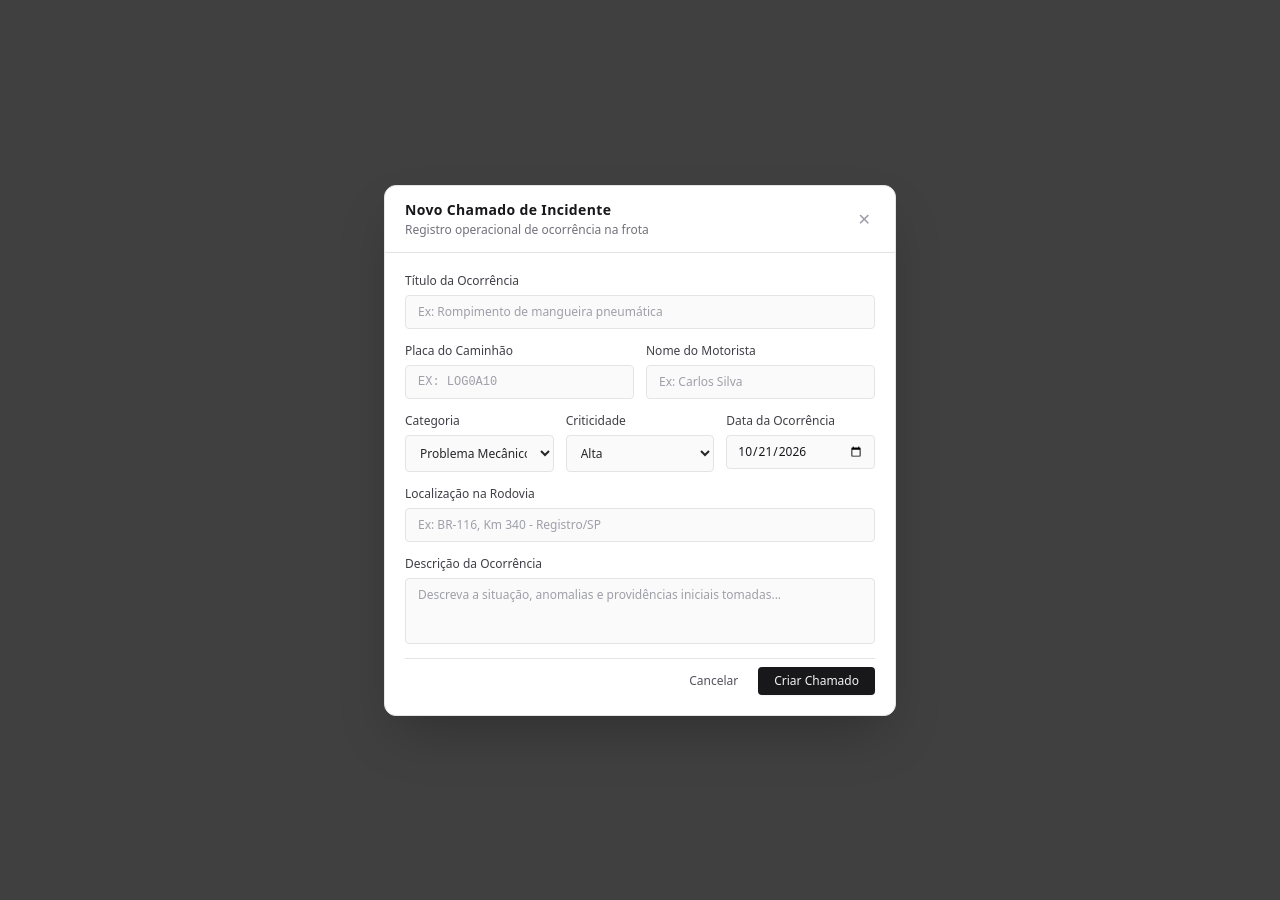
Scenario: CreateIncidentModal › renders structured error alert when submission fails
The image size is (1280, 900).
Type "Pane de arrefecimento" into the field labelled "Título da Ocorrência" at coordinates (640, 312), box [405,294,875,328]
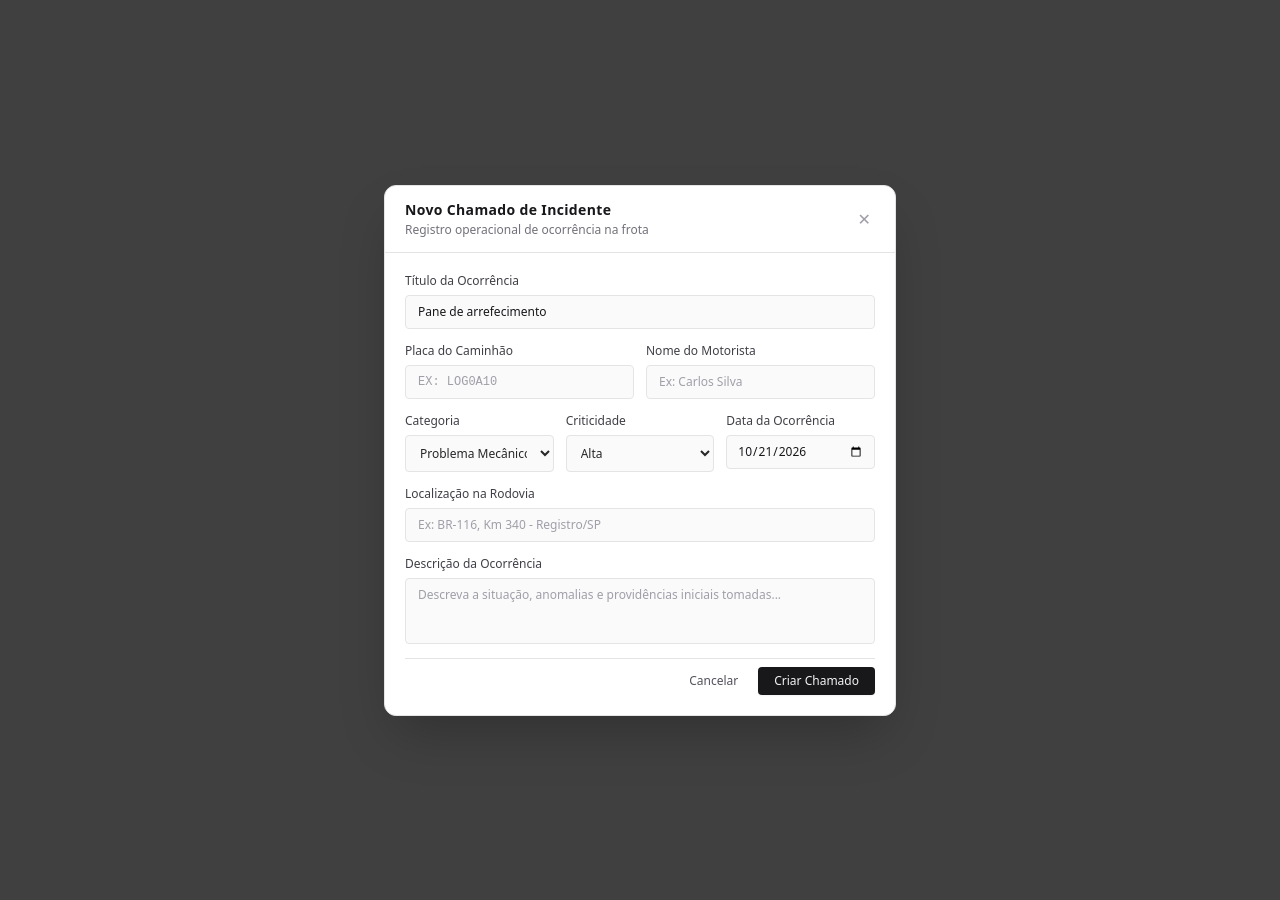
Type "LOG1A23" into the field labelled "Placa do Caminhão" at coordinates (520, 382), box [405,364,634,398]
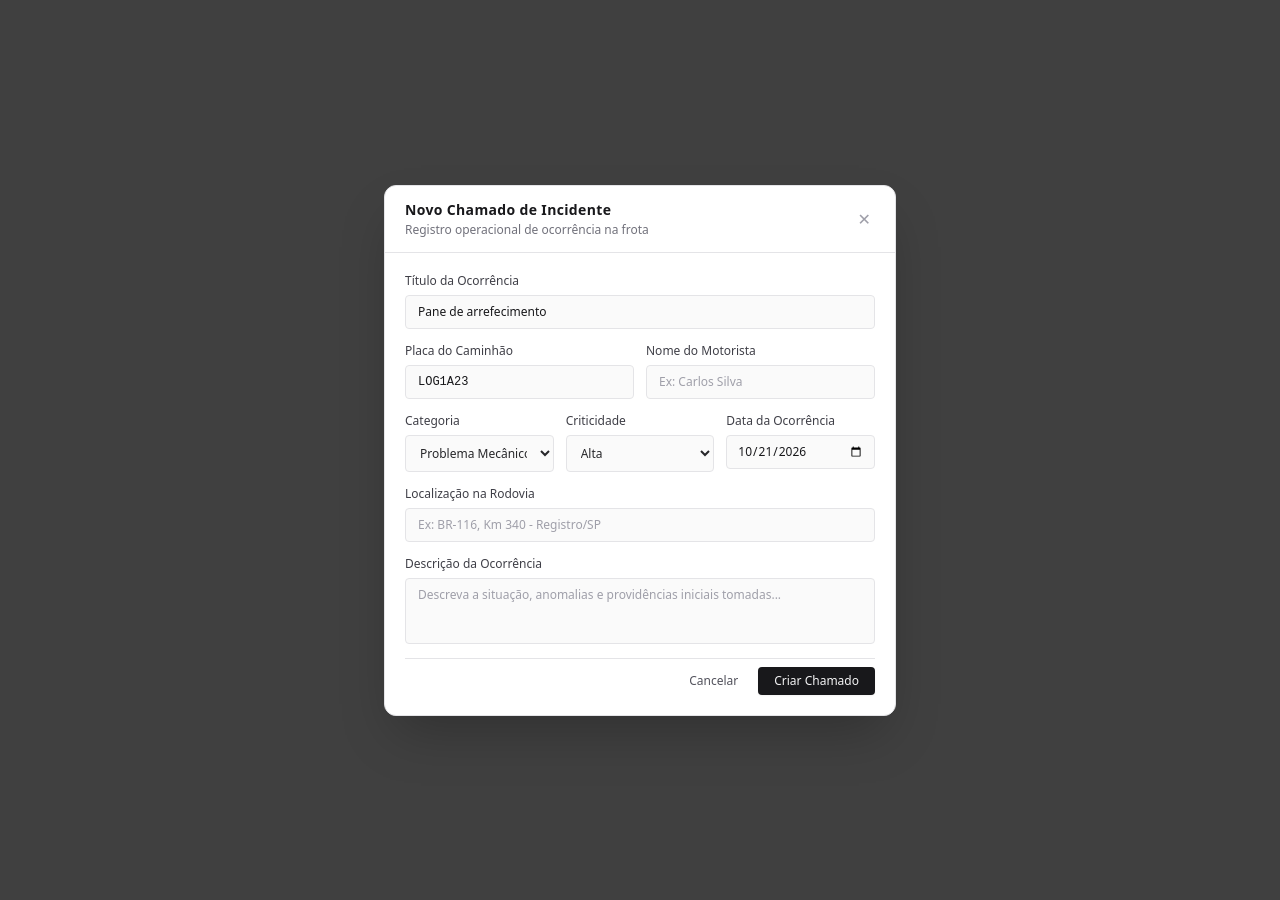
Type "BR-101, Km 50" into the field labelled "Localização na Rodovia" at coordinates (640, 524), box [405,508,875,542]
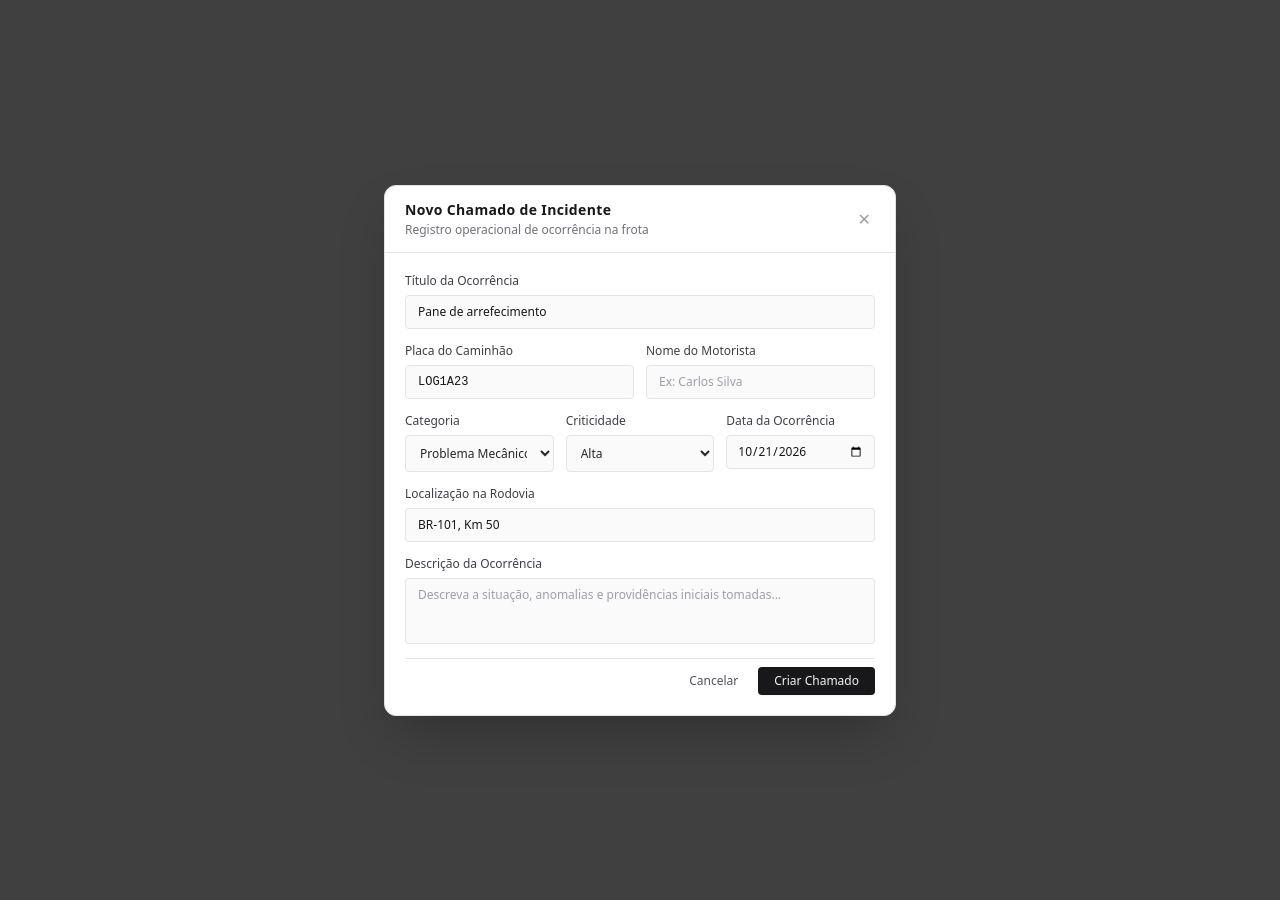
Replace the text in the text box labelled "Descrição da Ocorrência" with "Superaquecimento na subida da serra" at coordinates (640, 610), box [405,578,875,644]
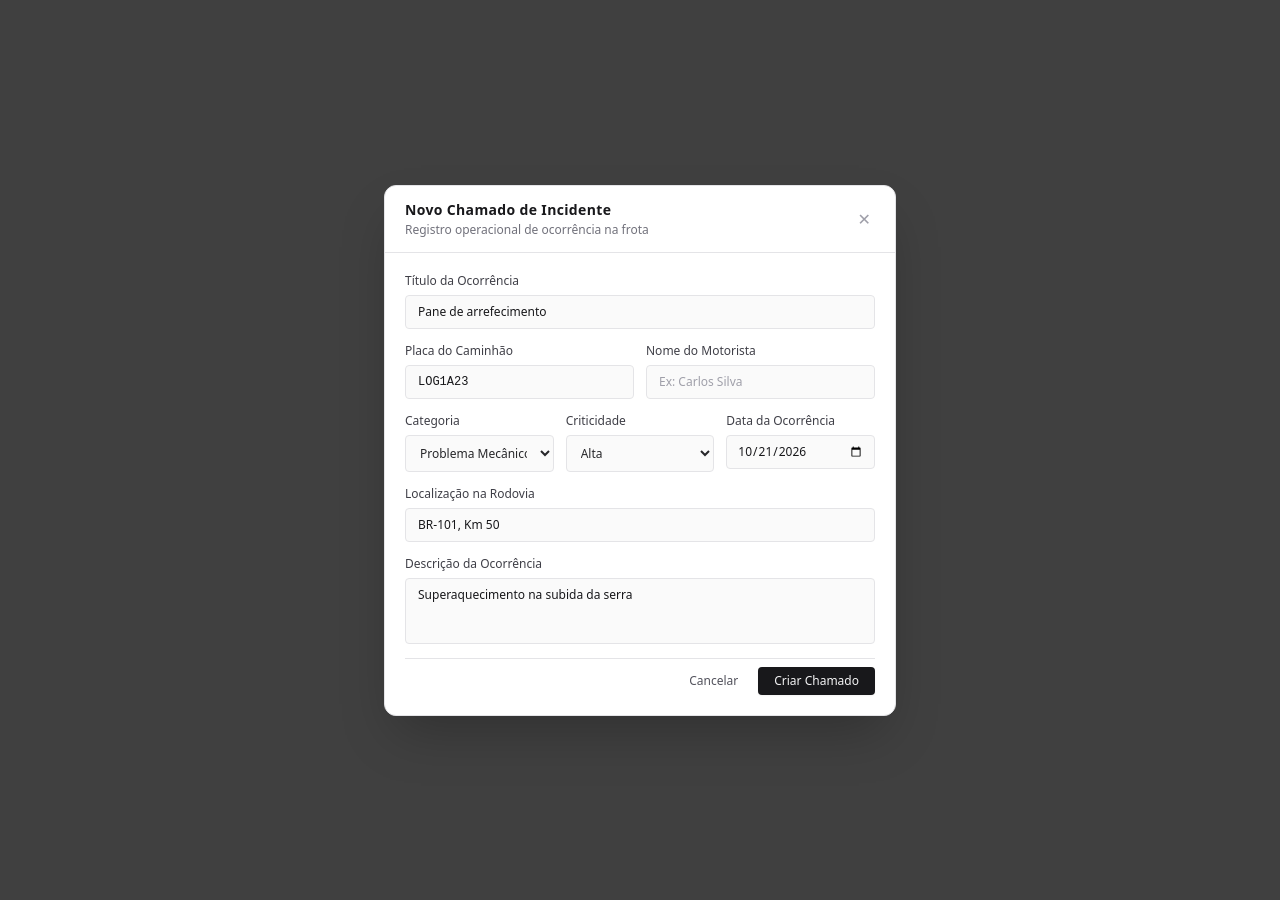
Click the button "Criar Chamado" at coordinates (817, 680), box [758,666,875,694]
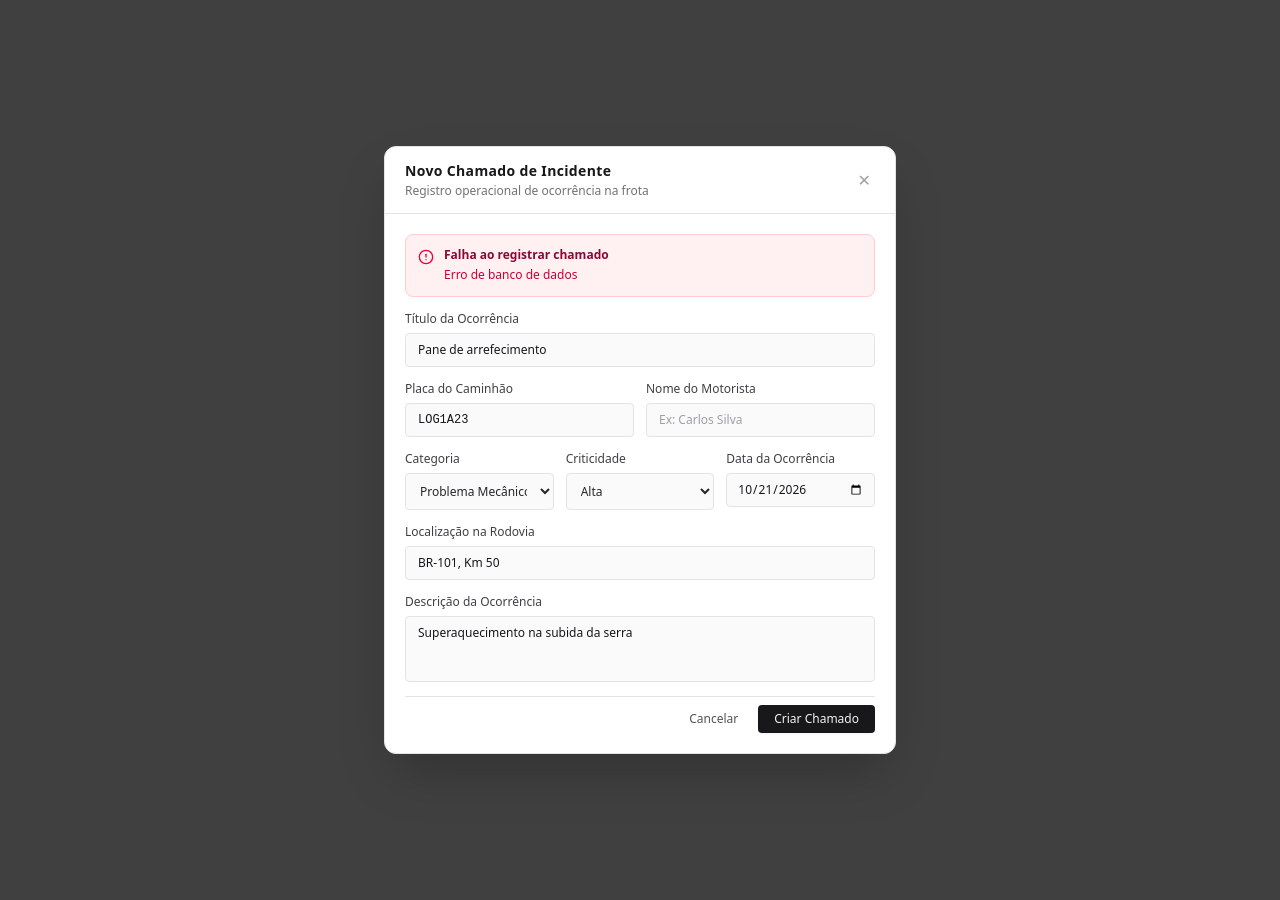
Expected: the message "Falha ao registrar chamado Erro de banco de dados" is shown, [405,234,875,297]
Expected: the text "Falha ao registrar chamado" is shown, [444,246,609,263]
Expected: the text "Erro de banco de dados" is shown, [444,266,577,283]
